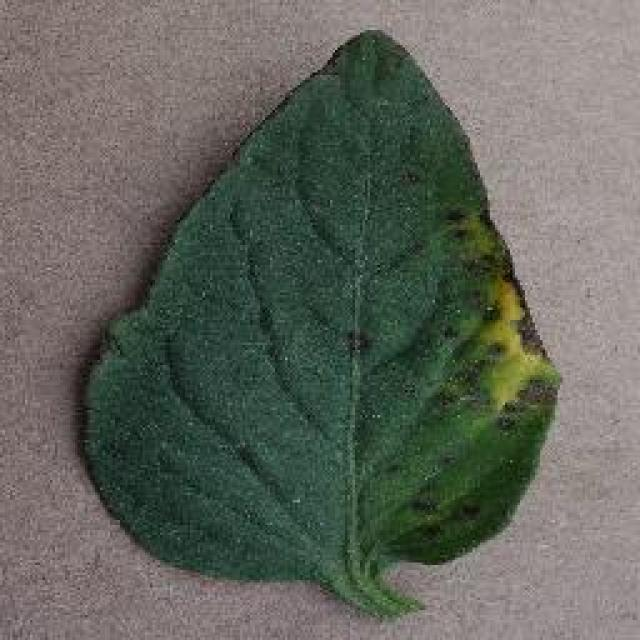Tomato___Bacterial_spot: (80, 20, 563, 625)
